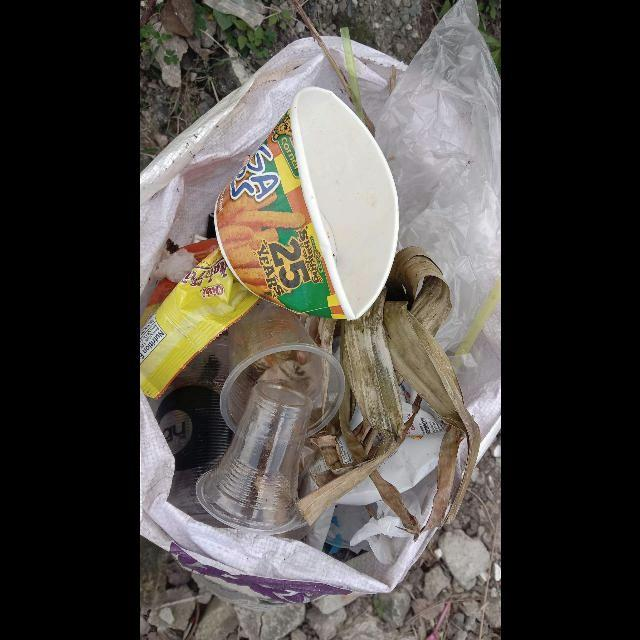cardboard: (213, 87, 399, 322)
food_wrapper: (139, 238, 258, 400)
plastic_container: (194, 382, 310, 535)
